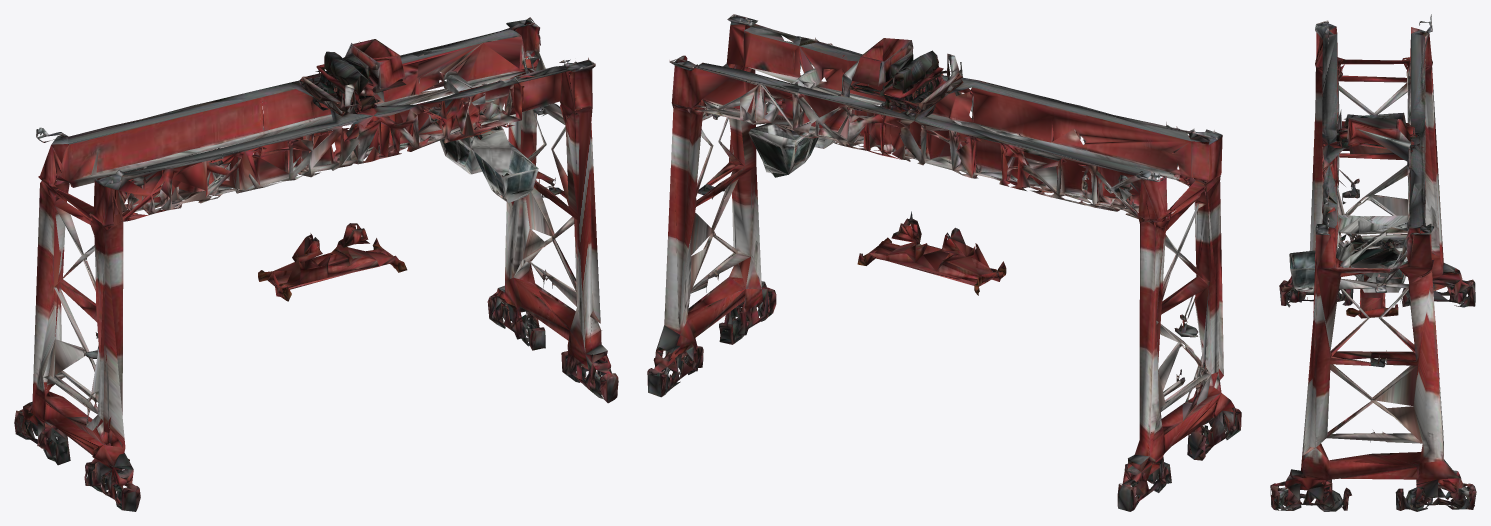
File: hafen_kran_lo.glb
3 views of the same model, side by side, from view 1: azimuth 30°, elevation 25°; view 2: azimuth 150°, elevation 25°; view 3: azimuth 270°, elevation 25° (orthographic). The views are drawn at different scales.
Visible parts, largest first — view 1: Prop; view 2: Prop; view 3: Prop.
Boxes of the visible parts, left/top/right/bottom form: Prop: left=14, top=17, right=618, bottom=511; Prop: left=647, top=14, right=1241, bottom=511; Prop: left=1270, top=14, right=1476, bottom=511.
Size of the model in its own units: 1.47 by 0.9962 by 0.5962.
Materials: 1 (1 with a texture image).
